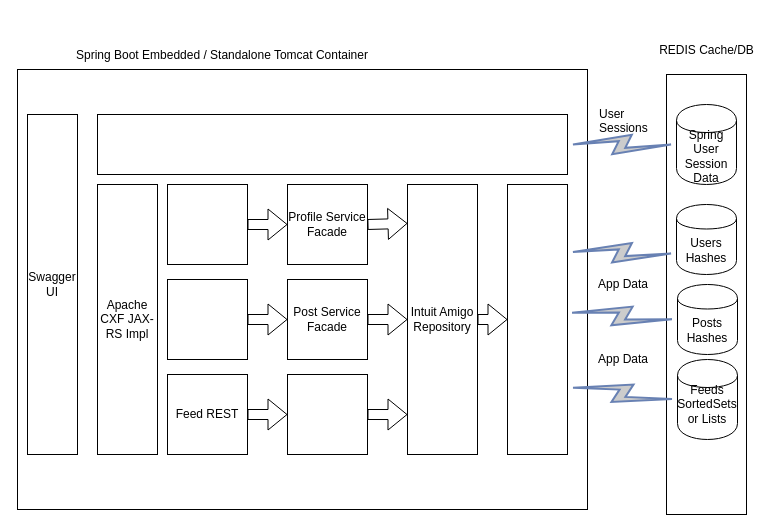
Image size: 774x532. Some labels were removed from this diagram. Here are the shapes that lost their labels. From the top down, the centre of each, then its label:
pixel 332 144: Spring Security Basic Auth
pixel 207 224: Profile REST
pixel 207 319: Post REST
pixel 537 319: Redisson In Memory Data Grid
pixel 327 414: Feed Service Facade
